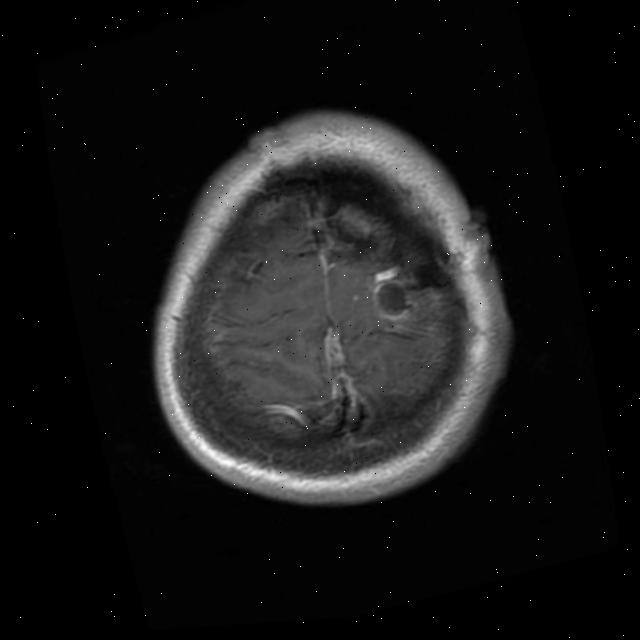Glioma: (366, 262, 417, 326)
